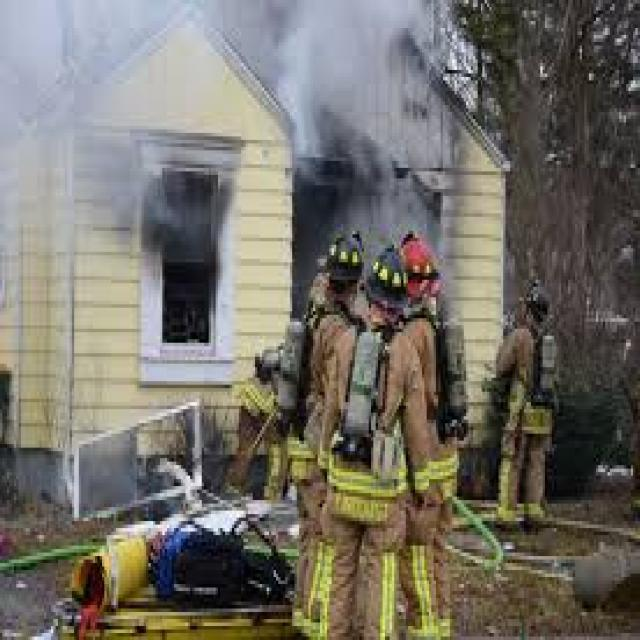Smoke: (10, 8, 425, 120)
